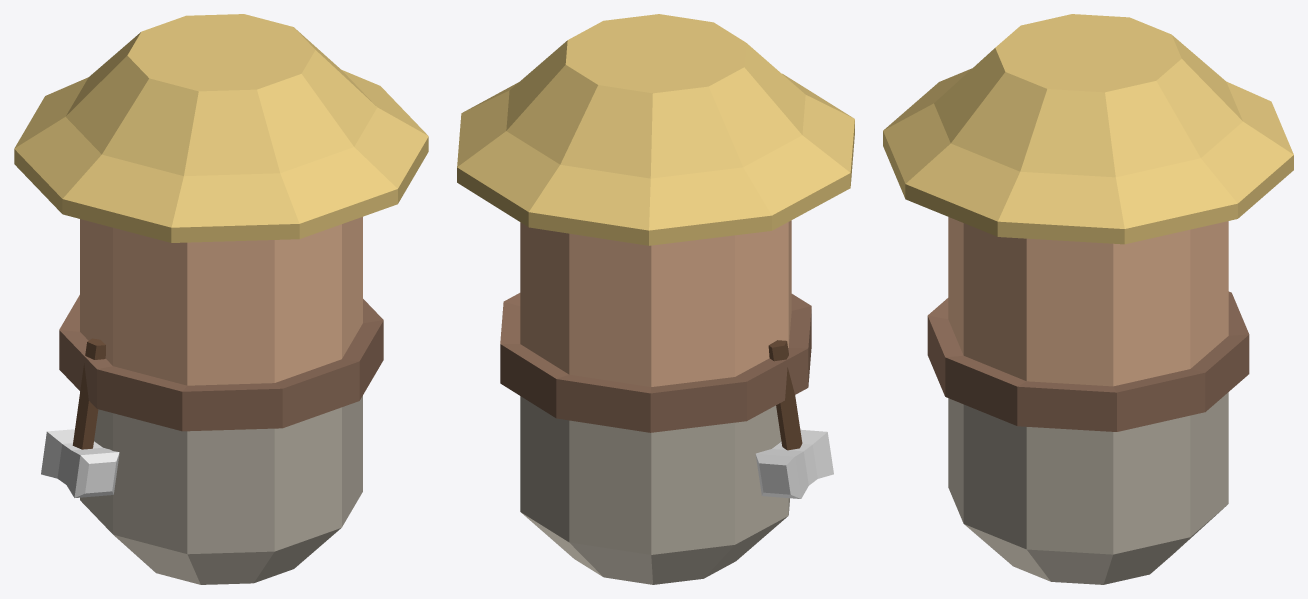
File: Smith (1).fbx
3 renders of one model, left to right at view 1: azimuth 30°, elevation 25°; view 2: azimuth 150°, elevation 25°; view 3: azimuth 270°, elevation 25°, orthographic.
Visible parts, largest first — view 1: Human, Hammer; view 2: Human, Hammer; view 3: Human.
Boxes of the visible parts, left/top/right/bottom form: Human: left=14, top=14, right=428, bottom=584; Hammer: left=41, top=338, right=119, bottom=497; Human: left=457, top=14, right=854, bottom=584; Hammer: left=755, top=340, right=833, bottom=498; Human: left=883, top=14, right=1293, bottom=584.
Size of the model in its own units: 289 by 387 by 290.
